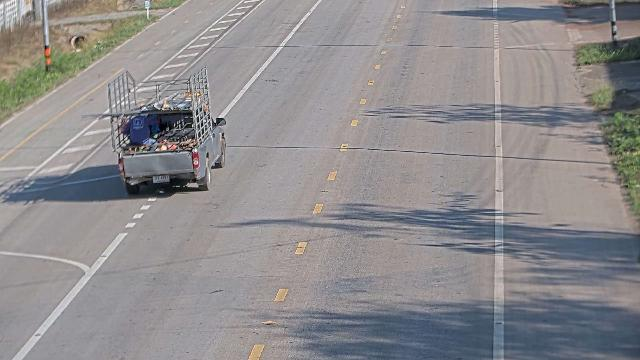pickup-truck: (102, 64, 227, 194)
